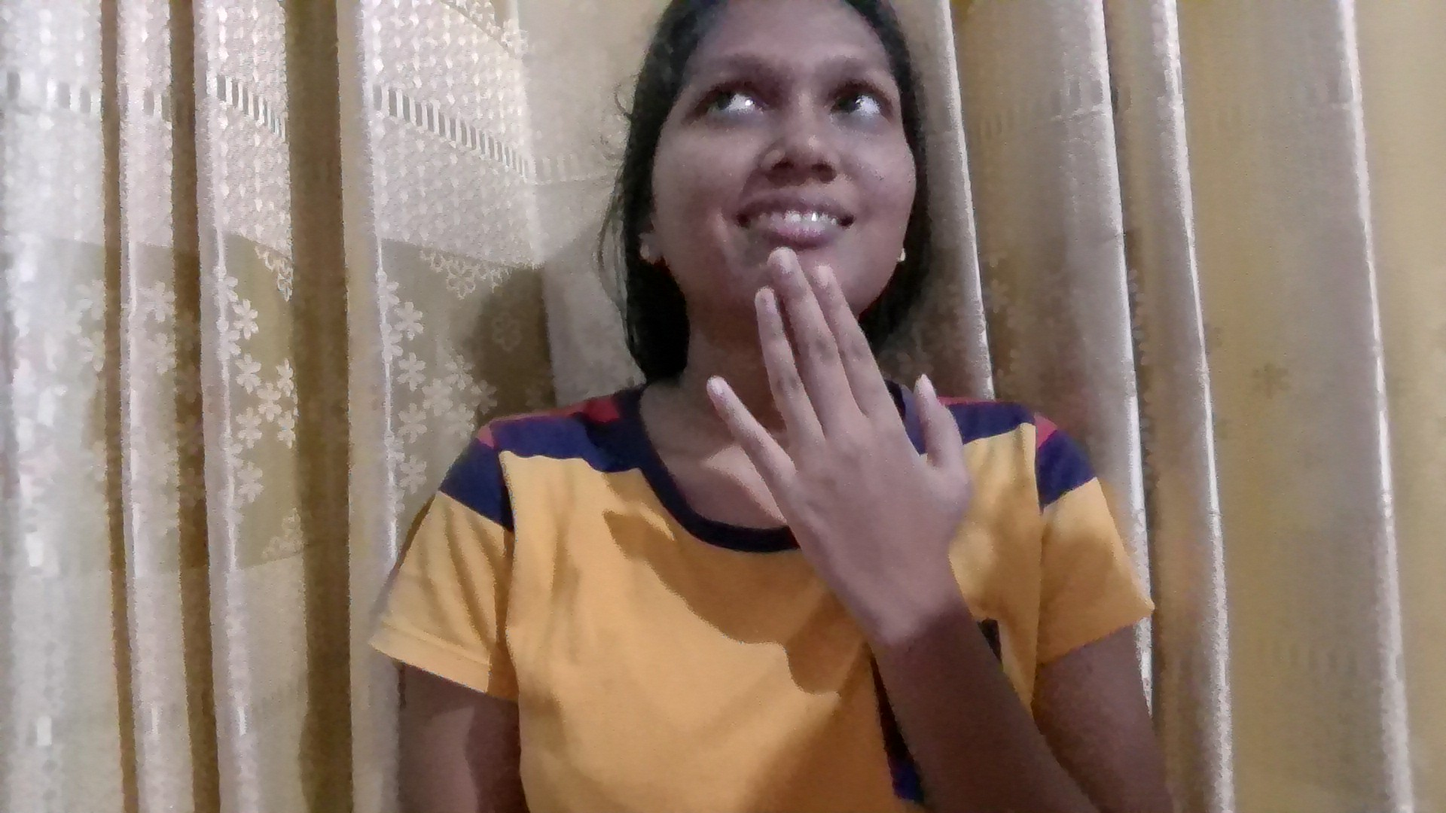Thank You: (627, 242, 1103, 645)
